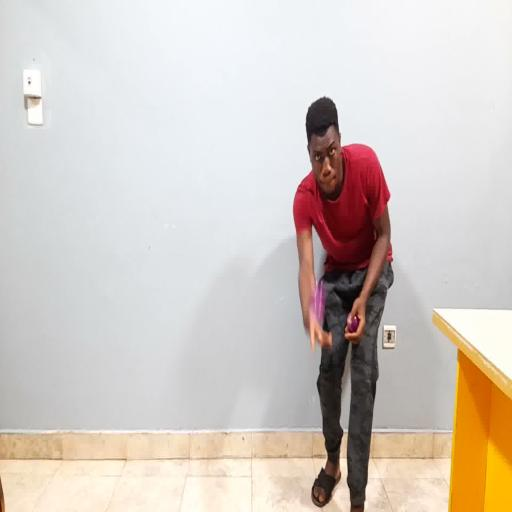plastic-ball: (311, 284, 328, 319)
